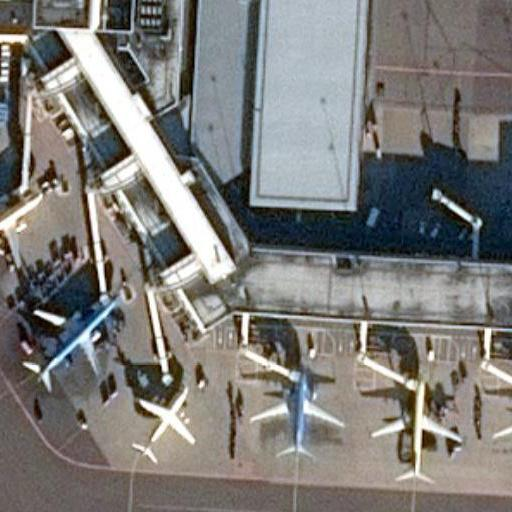Aircraft: (19, 285, 123, 391), (367, 377, 462, 484), (246, 365, 345, 459), (128, 380, 198, 463), (0, 177, 48, 267), (491, 379, 512, 476)
